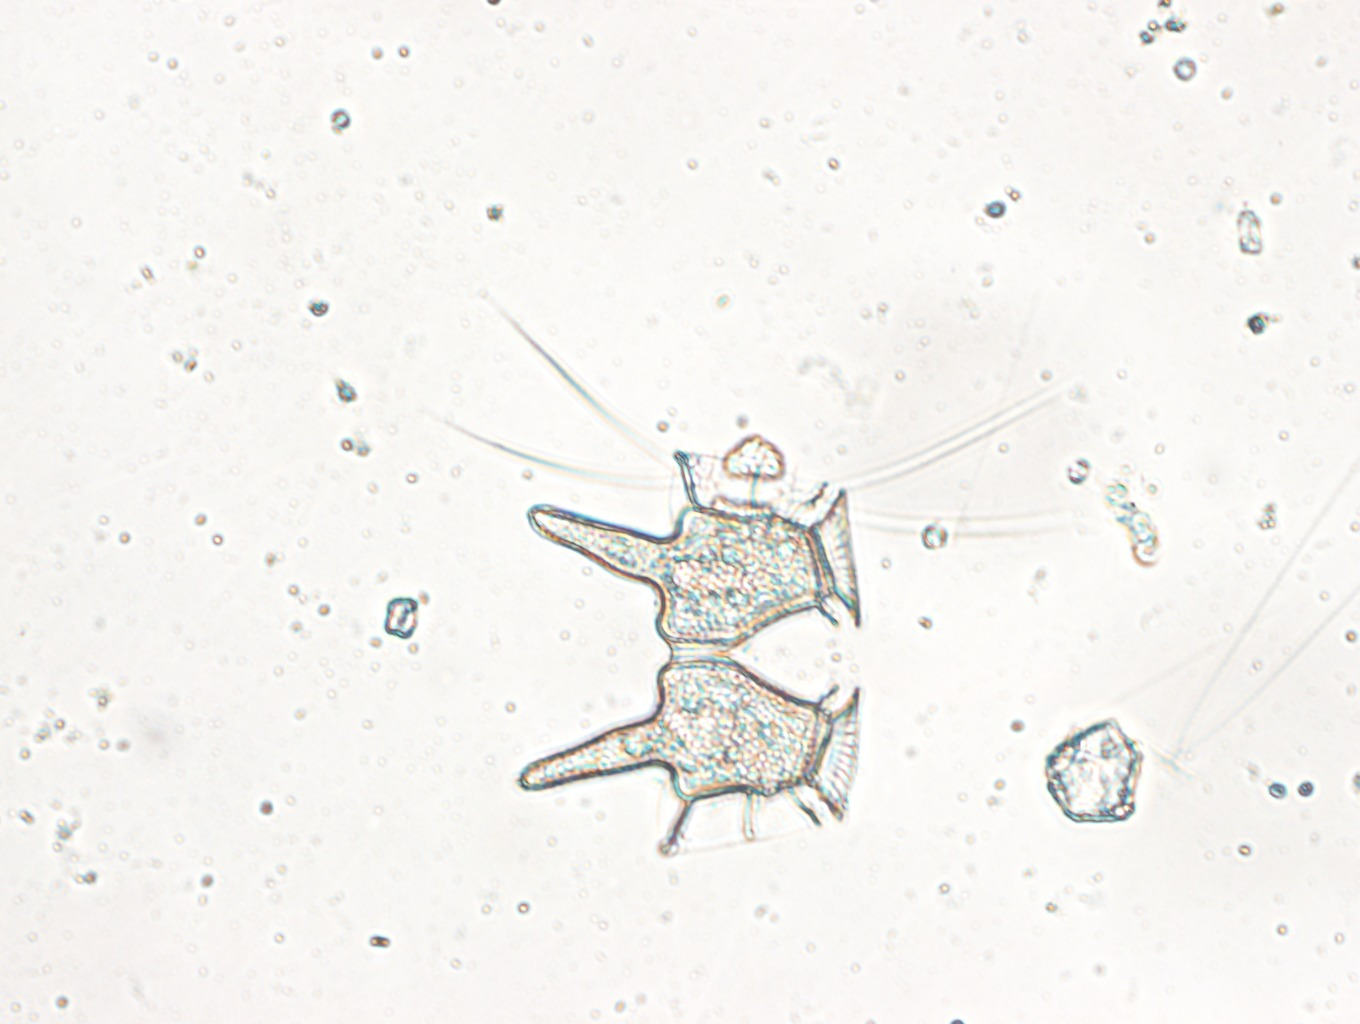dinophysis caudata: (518, 452, 860, 857)
